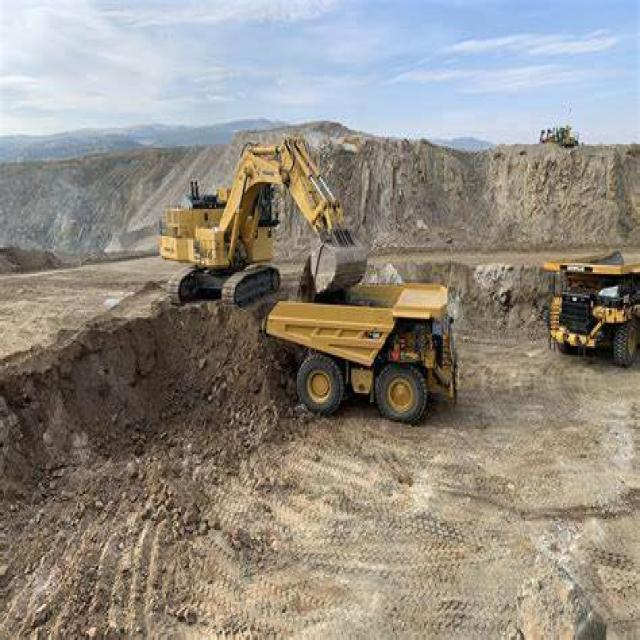dump_truck: (264, 269, 476, 427), (529, 236, 639, 399)
excavator: (141, 126, 386, 308)
